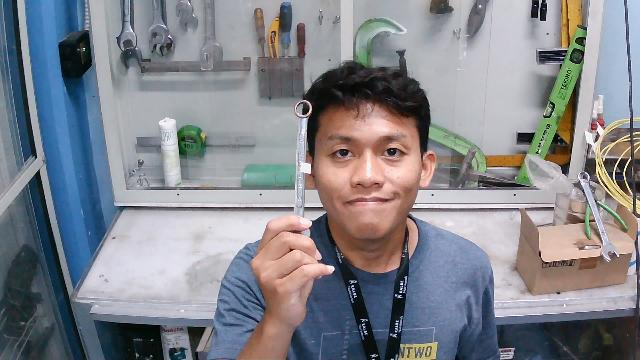kunci_pass_13: (280, 93, 326, 254)
